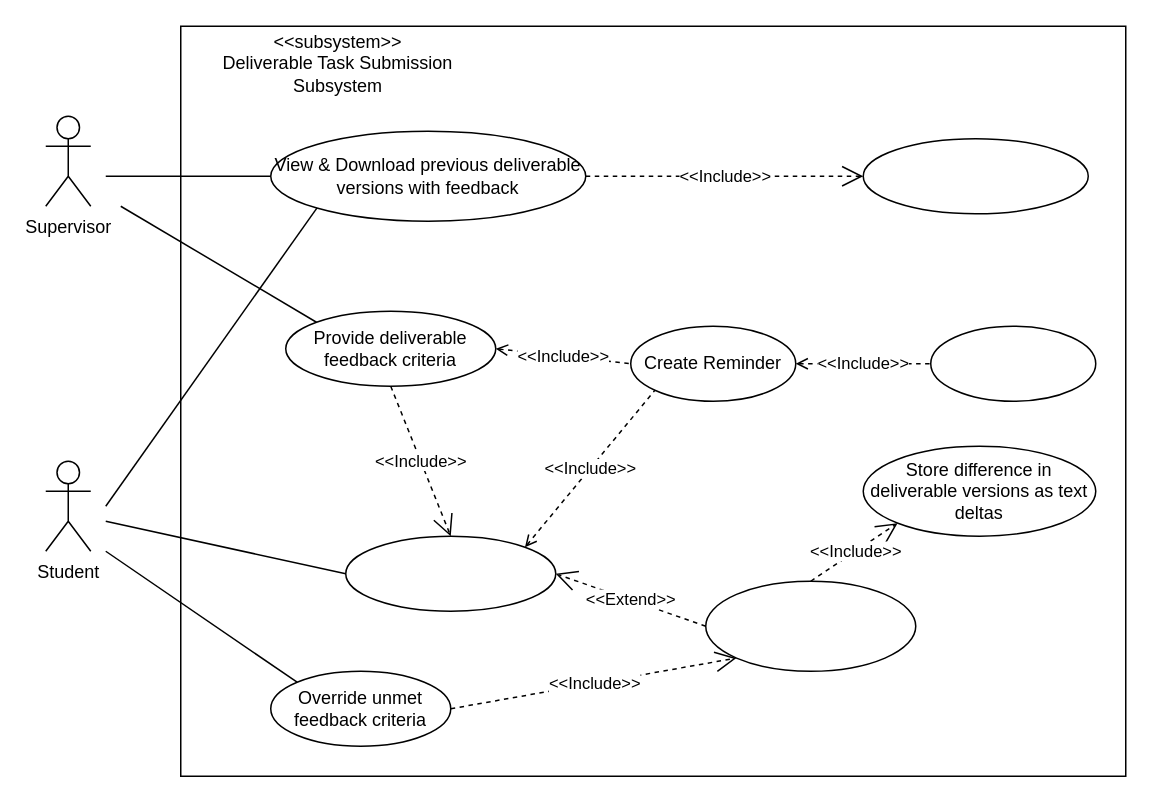
Some shapes in this 1152 by 803 pixel diagram are drawn without their labels. The shapes that lost their labels are listed below. From the top down, each one's centre as x and y in pixels, then its label:
At pixel 975 175: "Construct deliverable version from text deltas".
At pixel 1012 363: "Send Email notification".
At pixel 450 573: "Submit deliverable".
At pixel 810 625: "AI re-submission feedback compliance checking".
